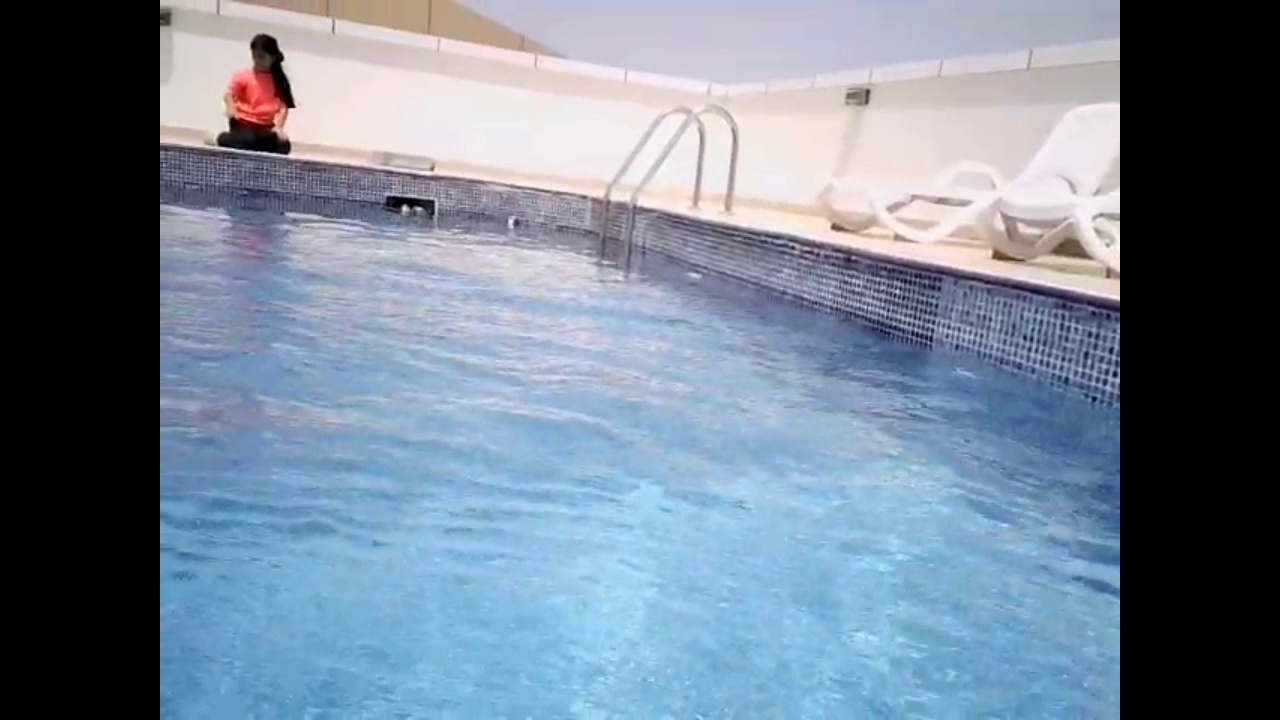debris: (503, 212, 526, 233), (406, 204, 427, 219), (396, 203, 414, 219)
